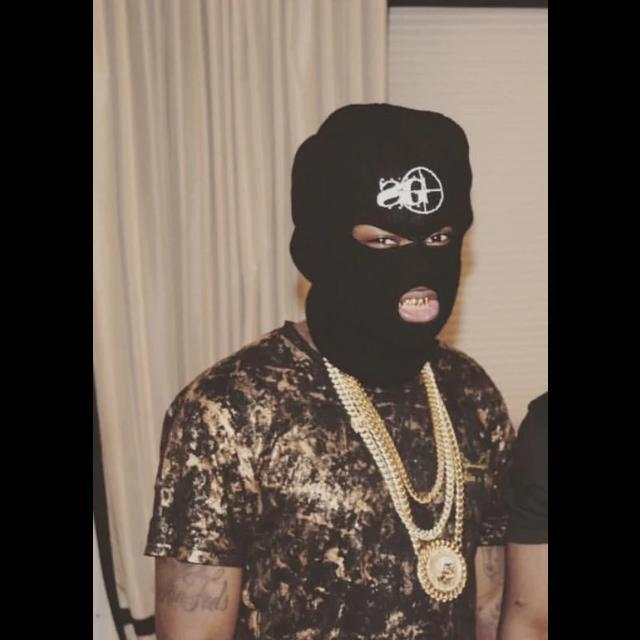criminal: (144, 103, 517, 640)
